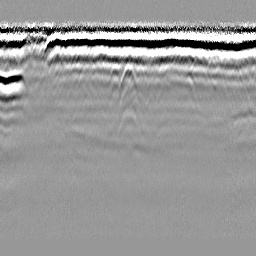cavity: (116, 61, 139, 104)
